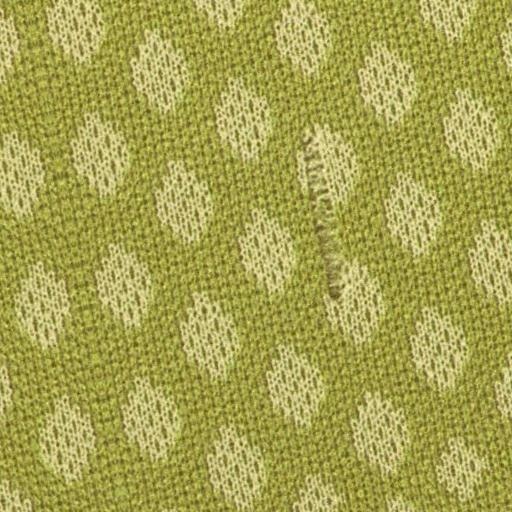slub: (297, 120, 350, 305)
